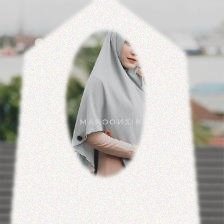Mukena: (6, 27, 204, 224)
